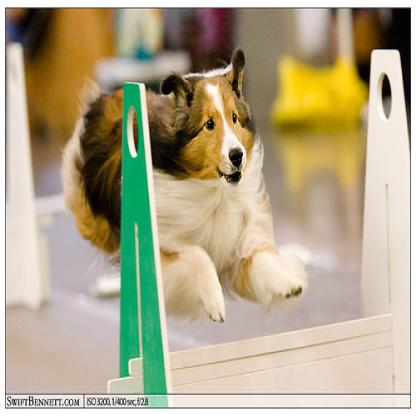Shetland_sheepdog: (58, 45, 310, 325)
